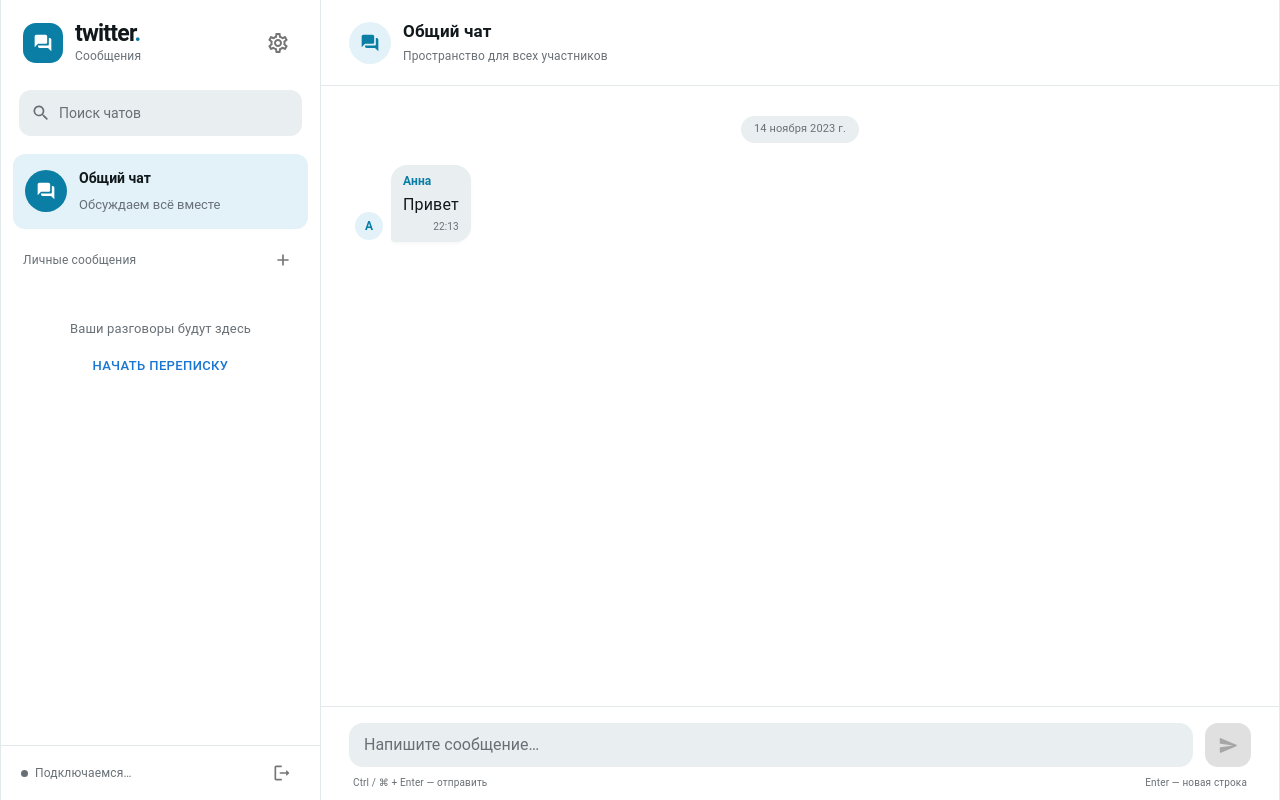
keeps a failed message in the conversation and frees the composer
Expected: the text "Привет" is shown, 403,192 -> 459,216
Type "Мой черновик" into the text box labelled "сообщение" at [771, 745], box 349,723 -> 1193,767
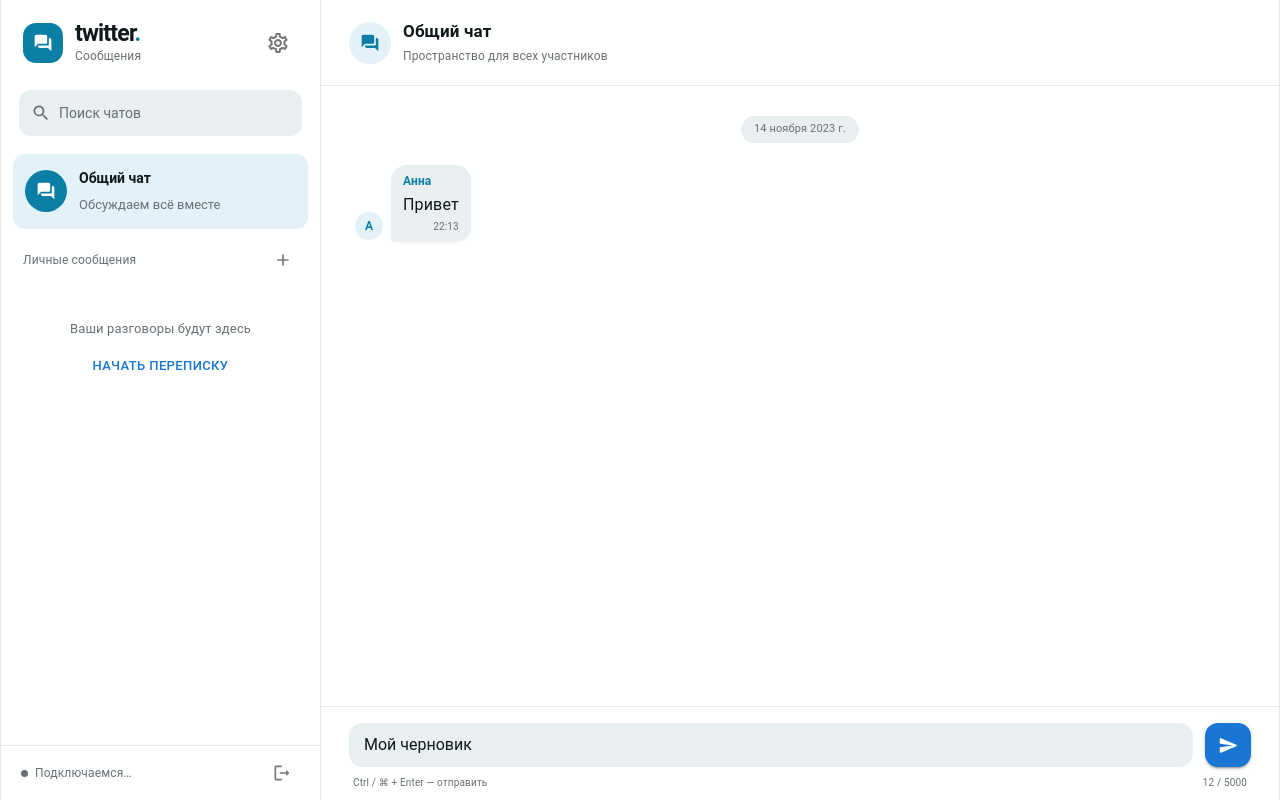
Click the button named "Отправить" at [1228, 745], box 1205,723 -> 1251,767
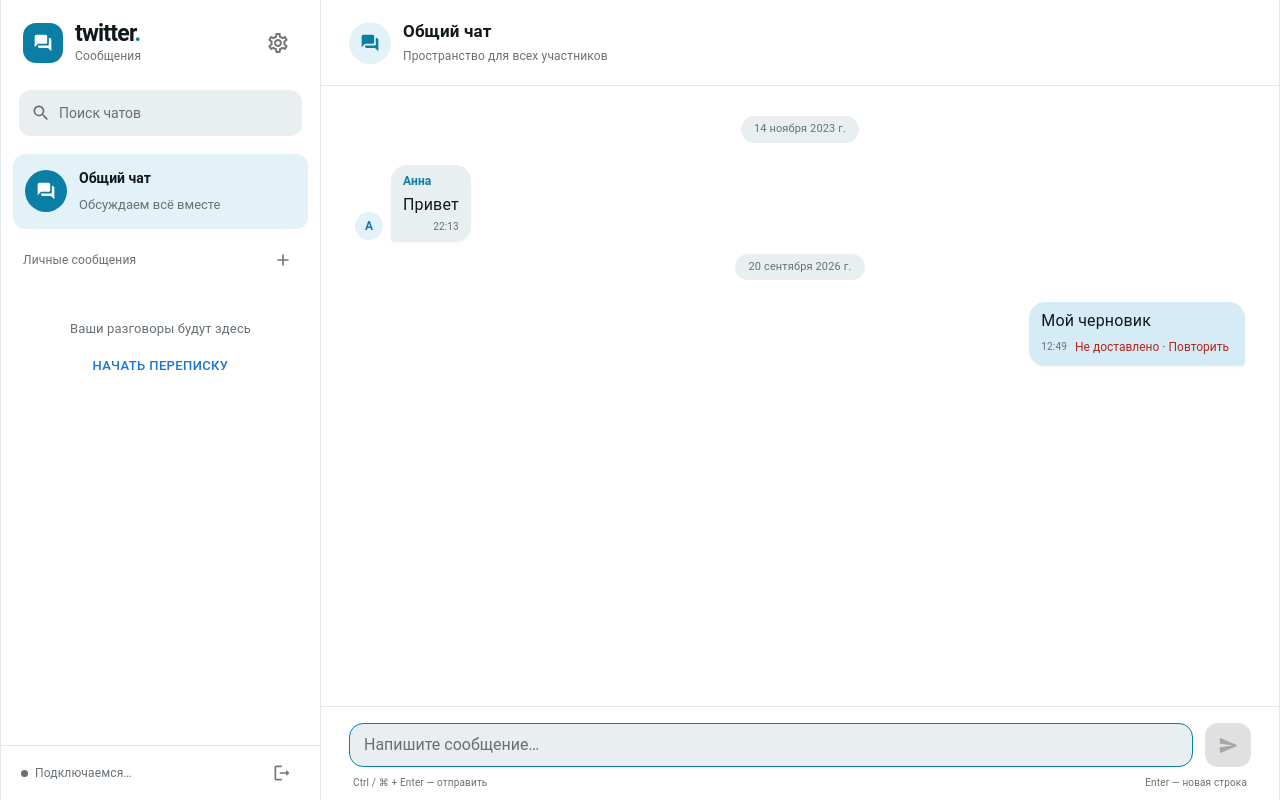
Result: the message shows "Не доставлено" at 1071,335 -> 1233,359
Result: the text "Мой черновик" is shown at 1041,311 -> 1151,330
Result: the text box labelled "сообщение" is empty at 349,723 -> 1193,767
